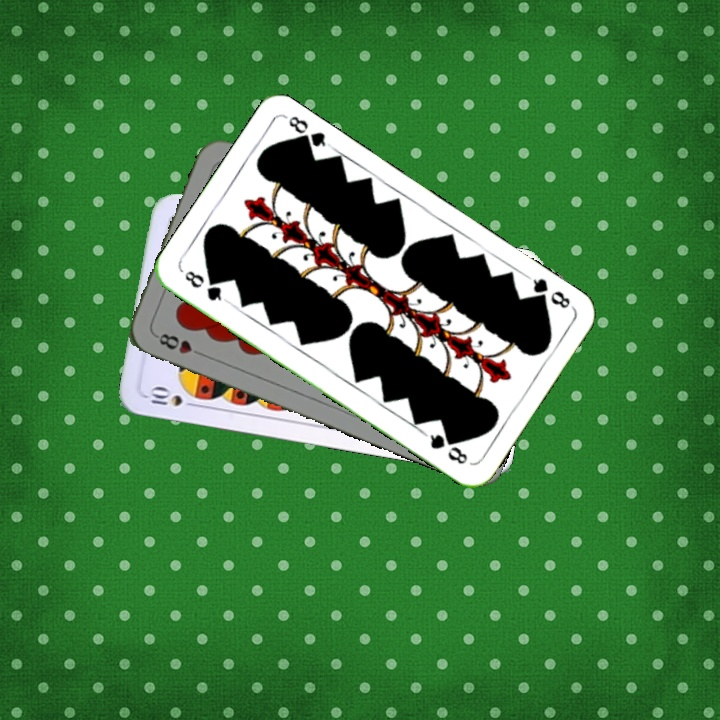G8: (523, 272, 575, 311), (180, 266, 224, 304)
H8: (151, 329, 208, 359)
S10: (147, 383, 201, 410)
